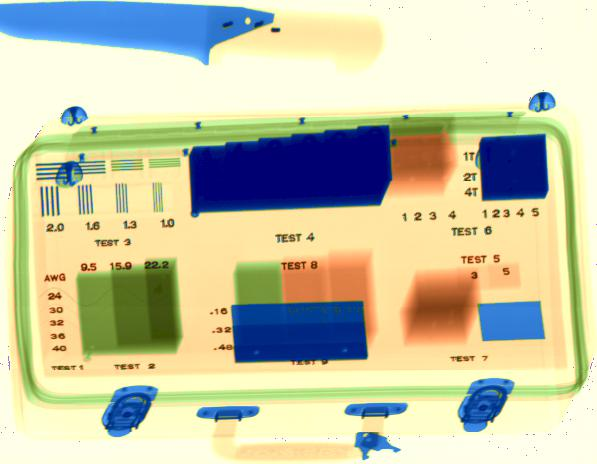Knife: (1, 1, 384, 75)
